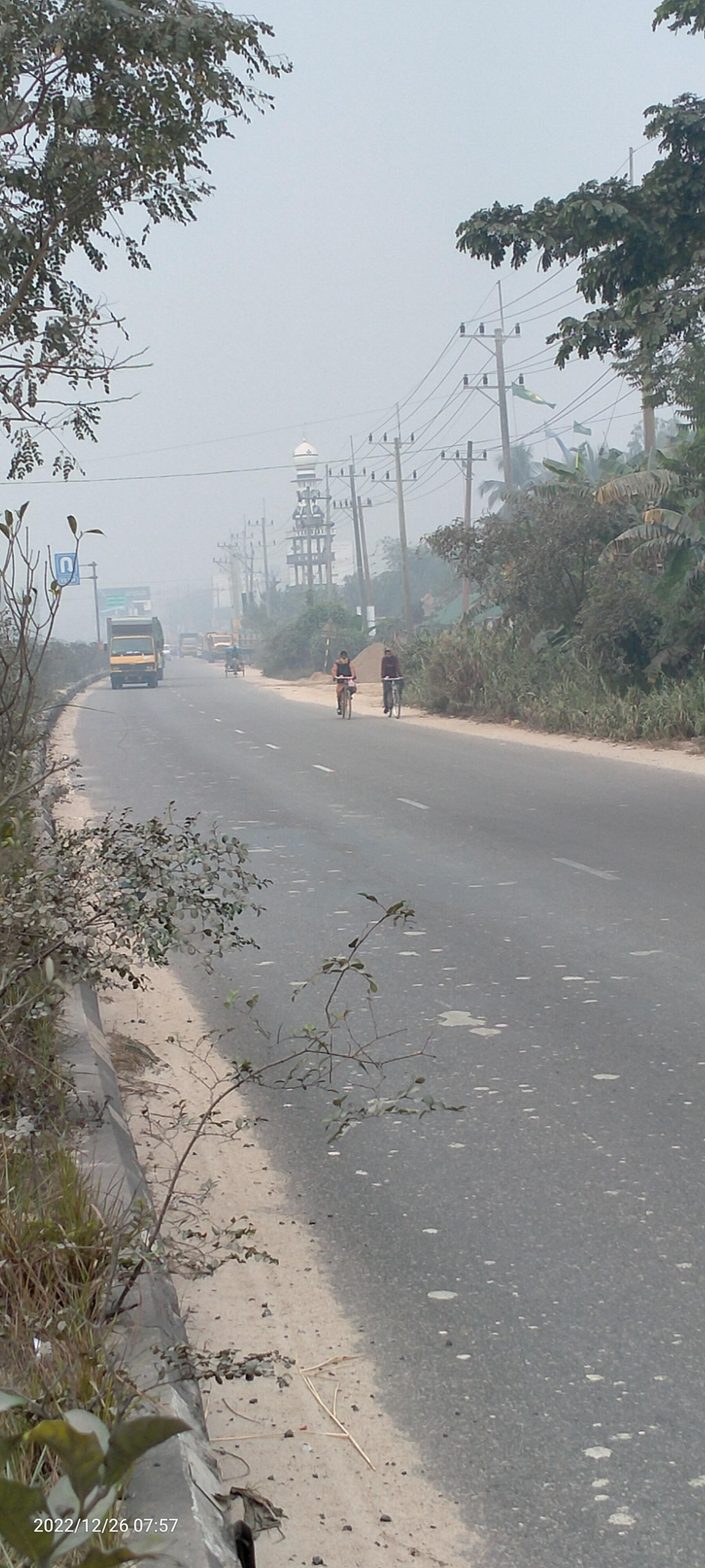Truck: (103, 613, 167, 690)
